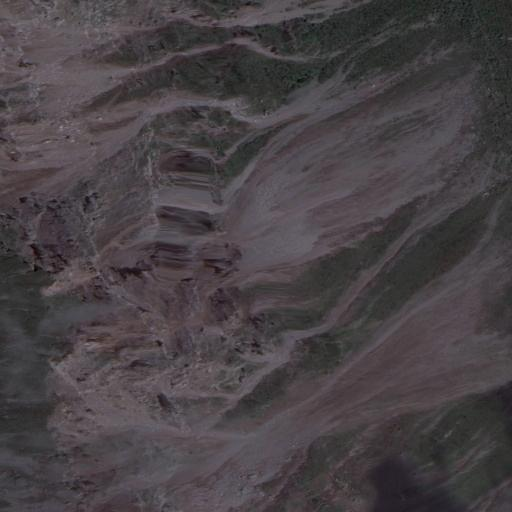landslide: (55, 41, 509, 511)
